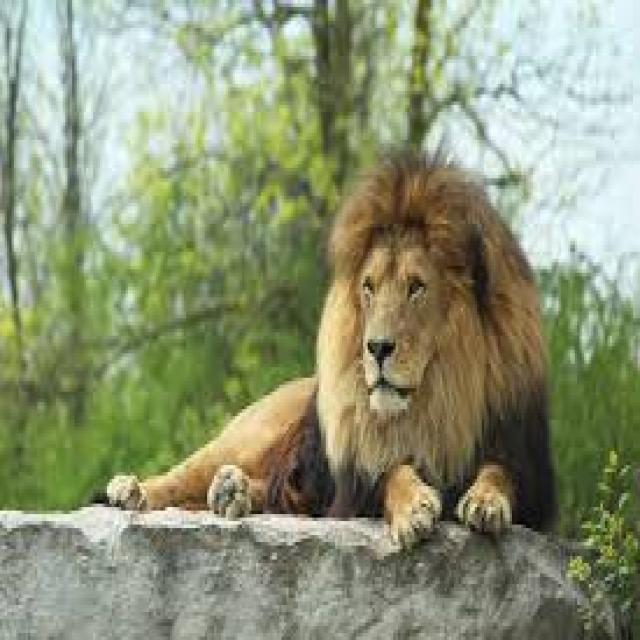Lion: (103, 147, 563, 546)
